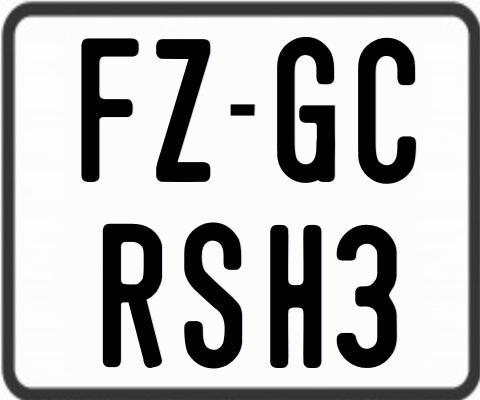3: (334, 222, 400, 365)
C: (356, 37, 420, 184)
F: (80, 35, 141, 184)
G: (275, 37, 338, 185)
H: (267, 223, 321, 368)
R: (102, 222, 165, 366)
S: (184, 222, 243, 373)
Z: (156, 39, 212, 182)
